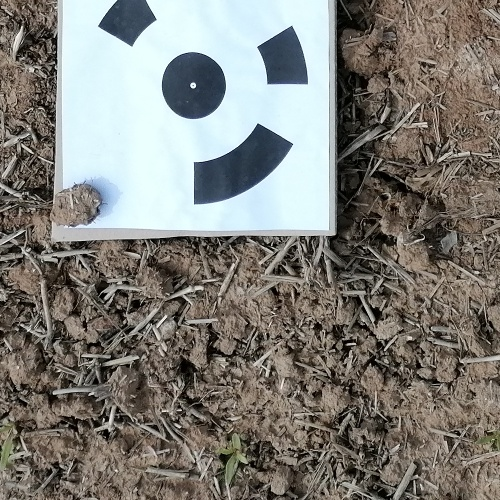beet: (217, 431, 247, 485), (0, 417, 19, 472), (475, 429, 500, 452)
